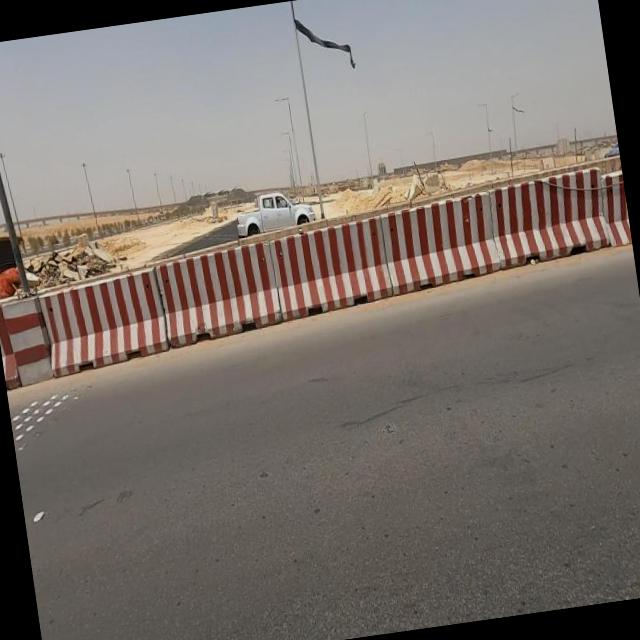debris: (38, 214, 140, 320), (15, 233, 90, 300), (0, 219, 44, 322)
